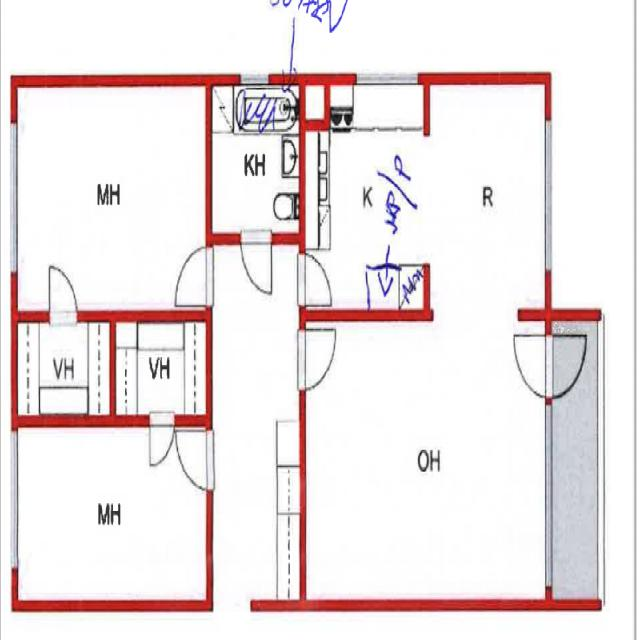door: (508, 333, 551, 398), (544, 333, 586, 398), (299, 328, 341, 391), (240, 232, 273, 302), (173, 247, 212, 306), (174, 432, 213, 489), (299, 252, 334, 303), (48, 259, 76, 322), (150, 415, 174, 472)
